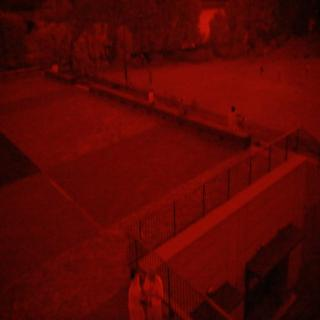person: (123, 263, 144, 320), (222, 97, 244, 139)
